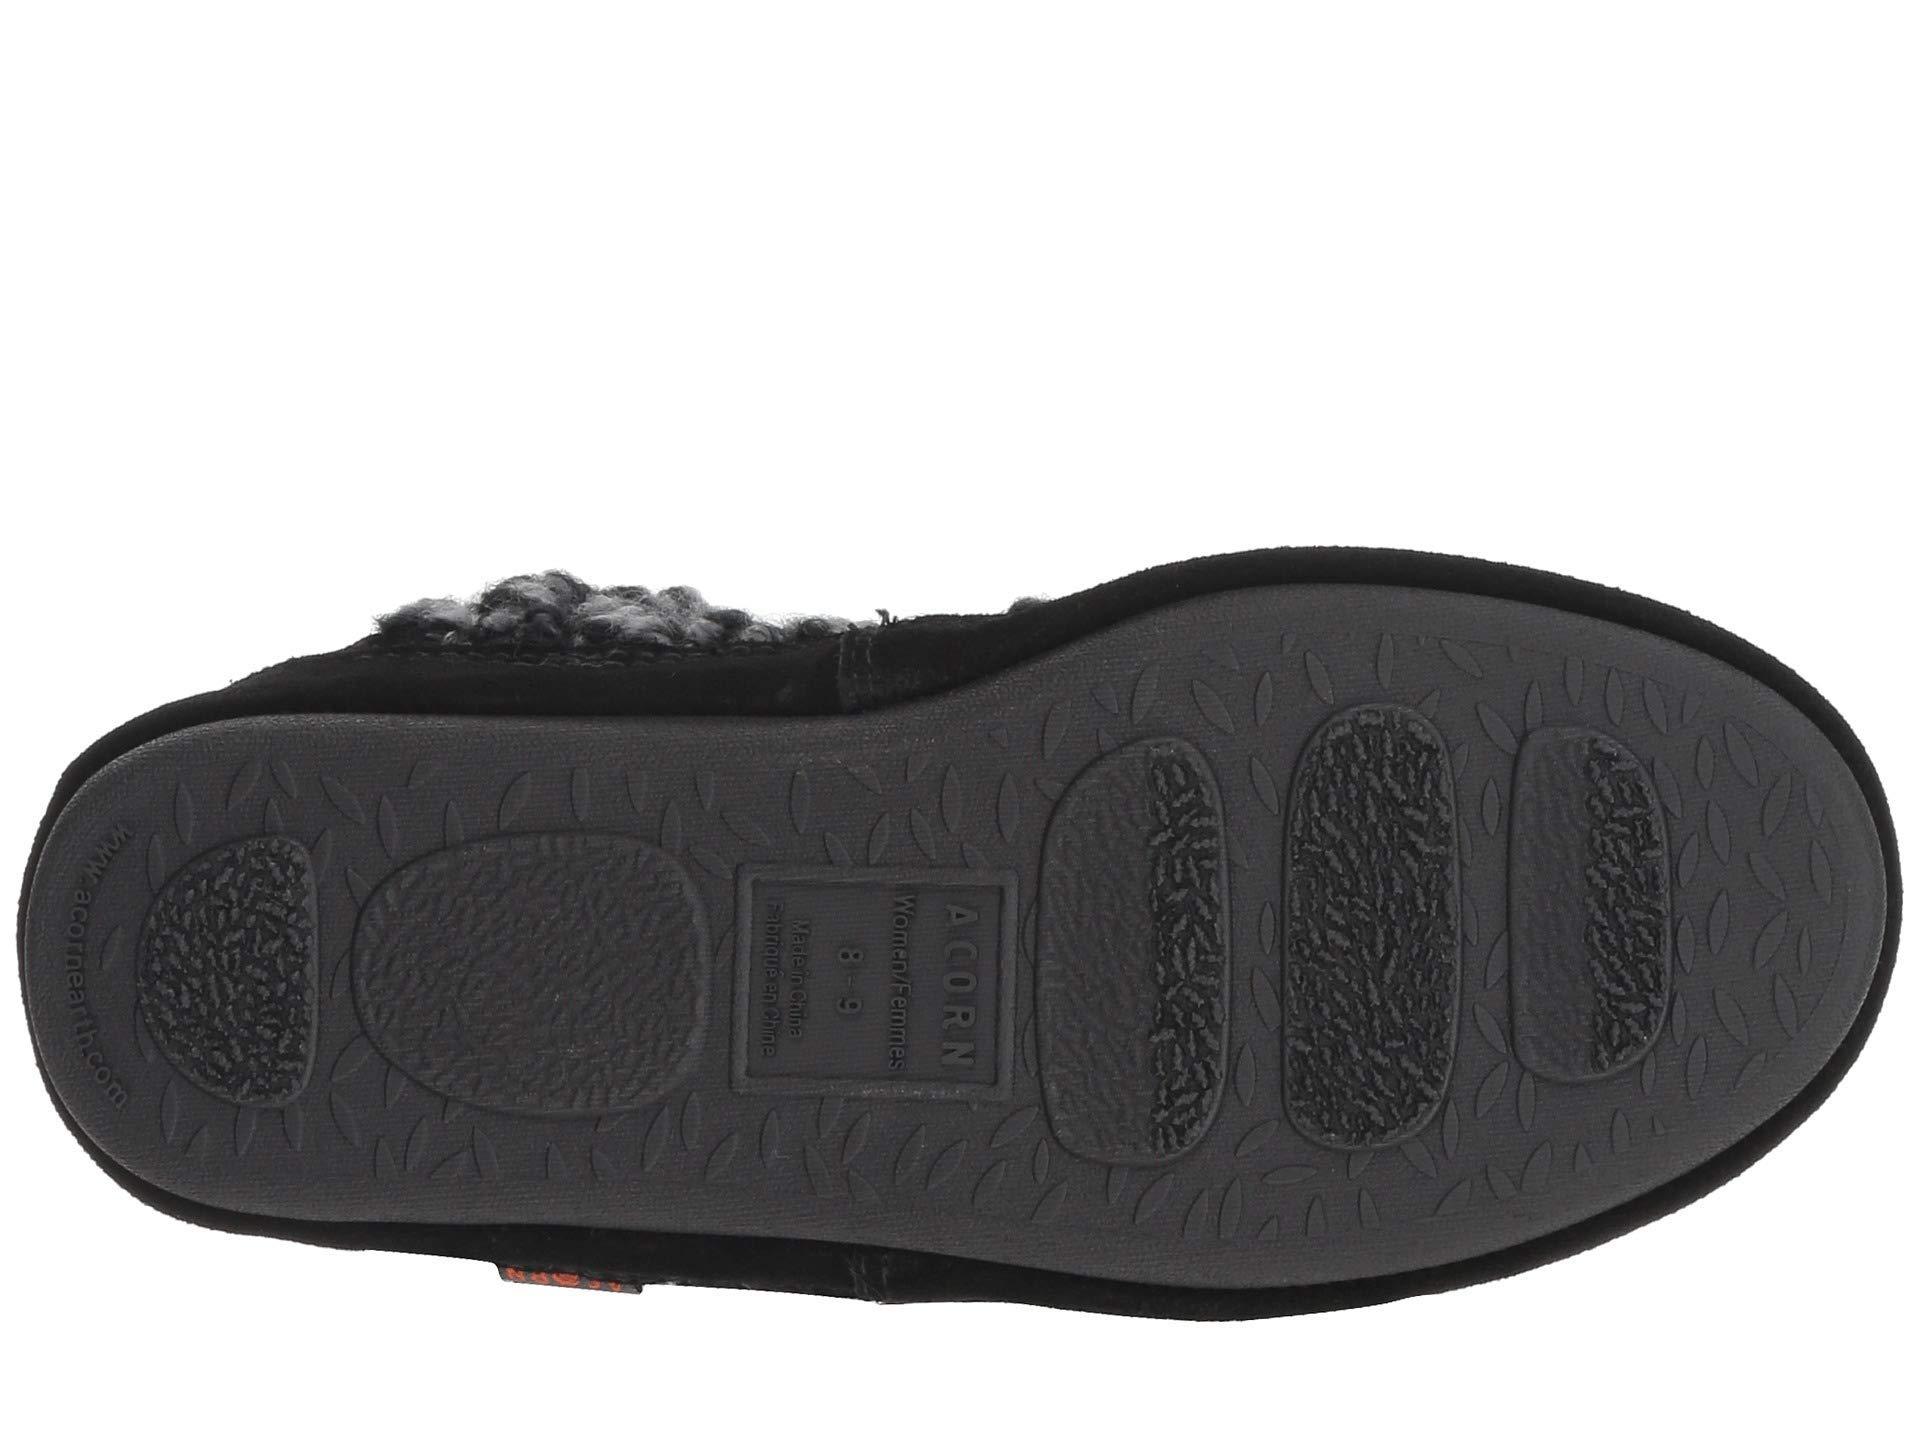circle: (732, 841, 1028, 1121), (51, 827, 150, 954), (42, 992, 139, 1109)
other: (1259, 672, 1485, 1180)
quad: (1259, 672, 1485, 1180), (732, 841, 1028, 1121)
text: (732, 841, 1028, 1121), (51, 827, 150, 954), (42, 992, 139, 1109)
